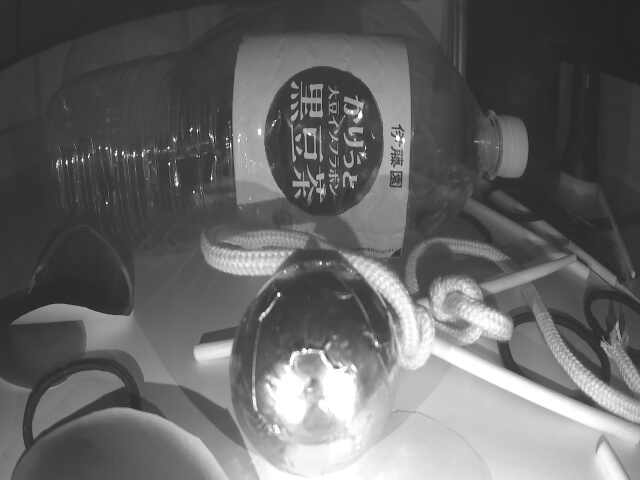Live: (226, 263, 395, 472)
Point: (0, 120, 47, 182)
